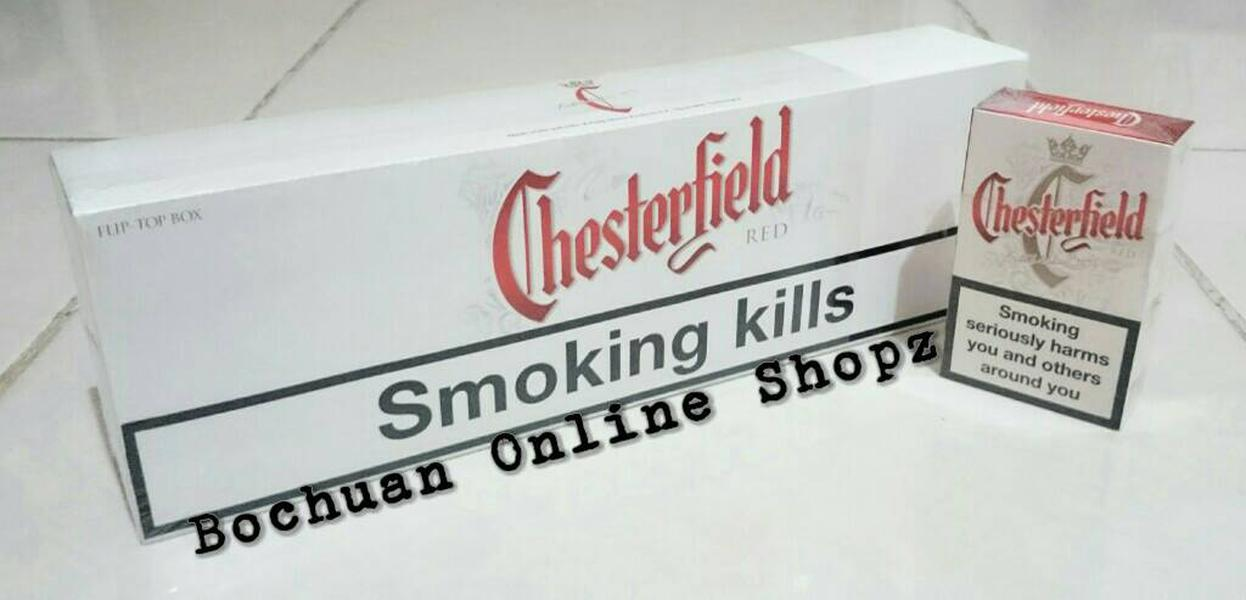chesterfield_red: (963, 134, 1145, 387)
